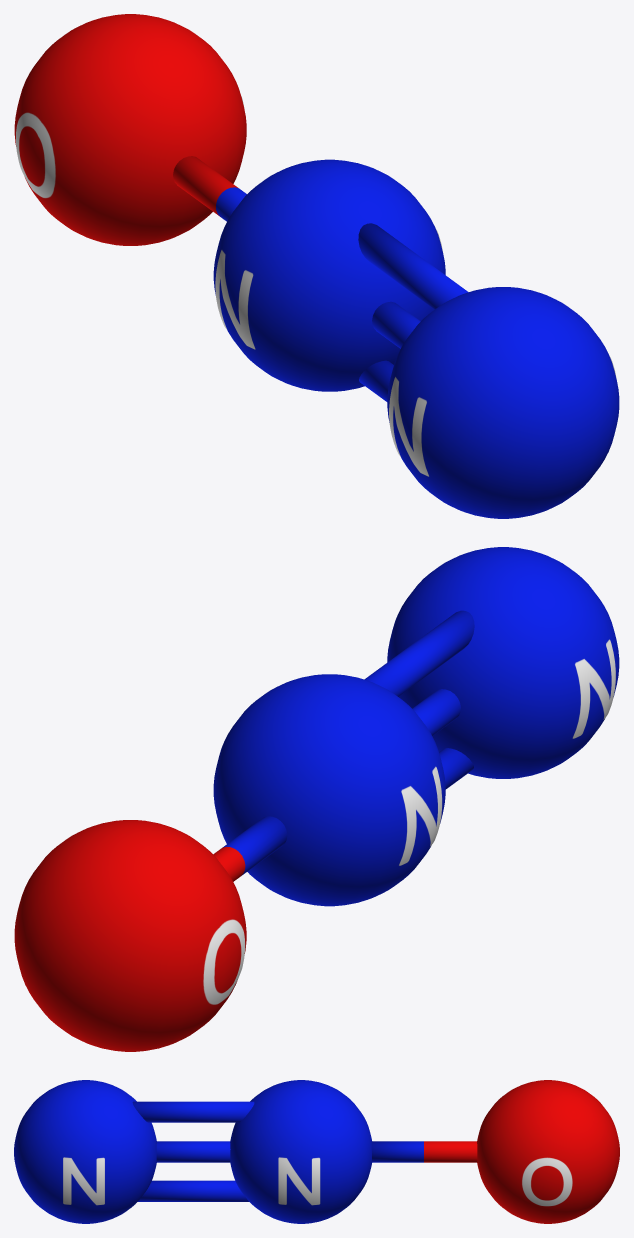
File: oxido_nitroso.glb
3 views of the same model, one above another, from view 1: azimuth 30°, elevation 25°; view 2: azimuth 150°, elevation 25°; view 3: azimuth 270°, elevation 25° (orthographic). The views are drawn at different scales.
Visible parts, largest first — view 1: Mol molde 14; view 2: Mol molde 14; view 3: Mol molde 14.
Boxes of the visible parts, box(x1,y1,x2,y2) form: Mol molde 14: box(14, 14, 619, 518); Mol molde 14: box(14, 547, 619, 1051); Mol molde 14: box(14, 1080, 619, 1223).
Size of the model in its own units: 0.3054 by 0.3054 by 1.29.
Materials: 2 (2 with a texture image).
